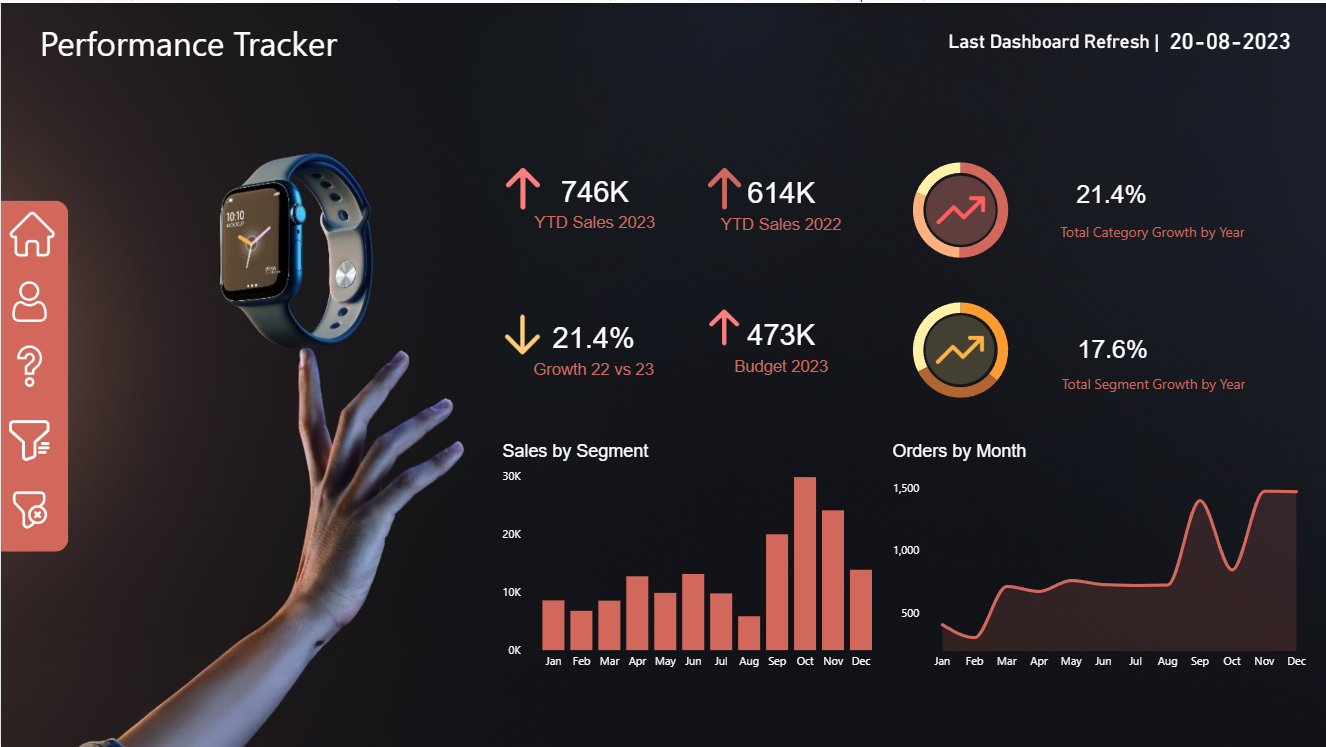

This screenshot's page, from the dashboard's own definition file:
{"tool":"powerbi","page":{"name":"Duplicate of Page 3","canvas":[1280,720],"ordinal":0},"visuals":[{"type":"group","id":"g1","title":"Group 2","box":[905.5,12.8,362.4,48.4],"z":0,"group":"g2"},{"type":"card","fields":{"Values":["Last Rfresh Date.Getdate"]},"box":[1105.1,20.7,162.8,30.6],"z":0,"group":"g1"},{"type":"shape","box":[905.5,12.8,220.2,48.4],"z":1000,"group":"g1"},{"type":"shape","box":[0,190.6,65.1,339],"z":1000},{"type":"donutChart","title":"Sales 2023 by Segment","fields":{"Category":["Orders.Segment"],"Y":["Orders.Total_Sales"]},"box":[842.8,137.6,166,125],"z":2000},{"type":"image","box":[0,325.7,55.5,49.5],"z":3000},{"type":"image","box":[0,370.4,54.7,104.6],"z":4000},{"type":"clusteredColumnChart","title":"Sales by Segment","fields":{"Category":["Orders.Month"],"Series":["Orders.Segment"],"Y":["Orders.Current_year_sales"]},"box":[478.4,422.6,378,230.5],"z":5000},{"type":"image","box":[0,464.5,54.7,50],"z":6000},{"type":"donutChart","title":"Sales 2023 by Category","fields":{"Category":["Orders.Category"],"Y":["Orders.Total_Sales"]},"box":[842.8,272.7,166,125],"z":7000},{"type":"image","box":[6,263,49.5,50.7],"z":8000},{"type":"areaChart","title":"Orders by Month","fields":{"Category":["Orders.Month"],"Y":["CountNonNull(Orders.Customer ID)"]},"box":[855.2,422.6,412.7,230.5],"z":9000},{"type":"card","fields":{"Values":["Orders.Current_year_sales"]},"box":[493.3,151.2,160,80],"z":10000},{"type":"card","fields":{"Values":["Orders.Previous_year_sales"]},"box":[673.7,152.4,160,80],"z":11000},{"type":"card","fields":{"Values":["Orders.Sales_growth"]},"box":[492.3,291.7,160,80],"z":12000},{"type":"card","fields":{"Values":["Orders.Current_year_sales"]},"box":[673.7,290,160,80],"z":13000},{"type":"card","fields":{"Values":["Orders.Sales_growth"]},"box":[1026.9,154.7,90.6,60.9],"z":14000},{"type":"card","fields":{"Values":["Orders.Sales_growth"]},"box":[1027.4,295,90.6,81.2],"z":15000},{"type":"shape","box":[1007.6,192.1,207.8,56.1],"z":16000},{"type":"shape","box":[1008.8,335.9,207.5,62.7],"z":17000},{"type":"group","id":"g2","title":"Group 3","box":[905.5,12.8,362.4,48.4],"z":18000},{"type":"textbox","box":[32.2,12.4,308.6,60.7],"z":20000},{"type":"image","box":[467.2,290,73.1,60.7],"z":21000},{"type":"image","box":[665.5,154.9,64.4,49.6],"z":22000},{"type":"image","box":[478.4,154.9,49.6,49.6],"z":23000},{"type":"image","box":[675.4,290,44.6,47.1],"z":24000},{"type":"image","box":[887.4,159.9,76.8,79.3],"z":25000},{"type":"image","box":[881.9,296.8,86.9,76],"z":26000},{"type":"image","box":[0,193,65.1,60.3],"z":26001}]}

Visuals, with their boxes in screenshot pixels (x1, y1, x2, y2), scaled from the page's 1280x720 canvas onto the 1326x747 screenshot:
"Group 2" group: 938, 13, 1313, 63
card - Last Rfresh Date.Getdate: 1145, 21, 1313, 53
shape: 938, 13, 1166, 63
shape: 0, 198, 67, 549
"Sales 2023 by Segment" donutChart: 873, 143, 1045, 272
image: 0, 338, 57, 389
image: 0, 384, 57, 493
"Sales by Segment" clusteredColumnChart: 496, 438, 887, 678
image: 0, 482, 57, 534
"Sales 2023 by Category" donutChart: 873, 283, 1045, 413
image: 6, 273, 57, 325
"Orders by Month" areaChart: 886, 438, 1313, 678
card - Orders.Current_year_sales: 511, 157, 677, 240
card - Orders.Previous_year_sales: 698, 158, 864, 241
card - Orders.Sales_growth: 510, 303, 676, 386
card - Orders.Current_year_sales: 698, 301, 864, 384
card - Orders.Sales_growth: 1064, 161, 1158, 224
card - Orders.Sales_growth: 1064, 306, 1158, 390
shape: 1044, 199, 1259, 258
shape: 1045, 348, 1260, 414
"Group 3" group: 938, 13, 1313, 63
textbox: 33, 13, 353, 76
image: 484, 301, 560, 364
image: 689, 161, 756, 212
image: 496, 161, 547, 212
image: 700, 301, 746, 350
image: 919, 166, 999, 248
image: 914, 308, 1004, 387
image: 0, 200, 67, 263
